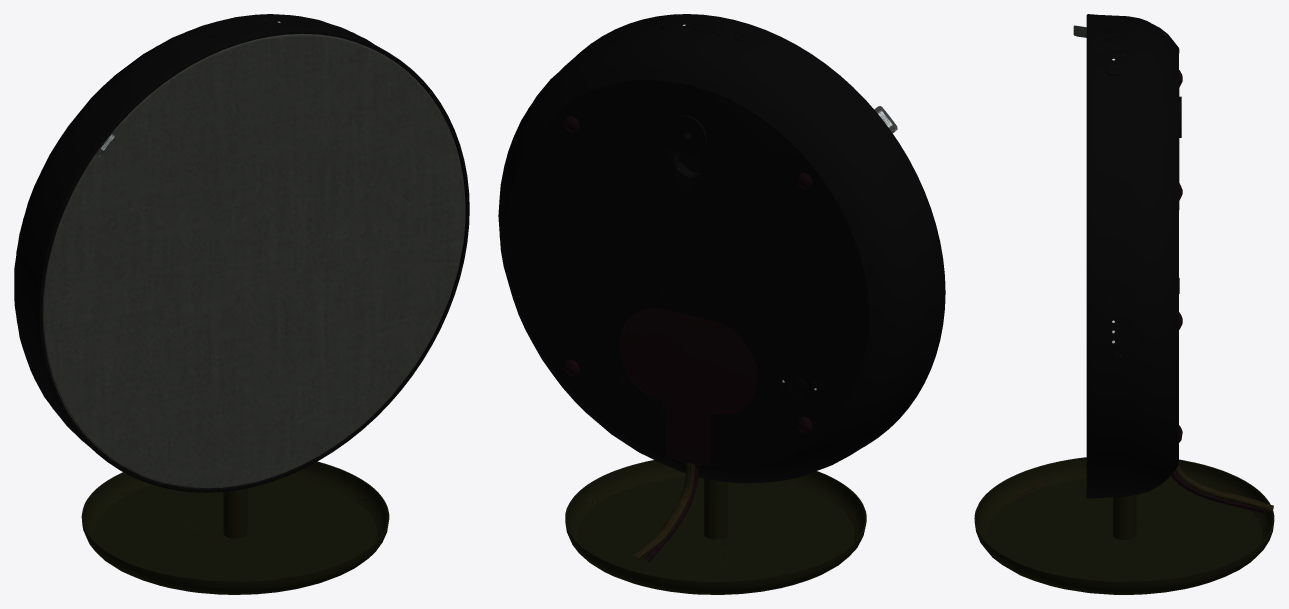
File: solskydd_gosnik_bluetooth_70598147.glb
3 renders of one model, left to right at view 1: azimuth 30°, elevation 25°; view 2: azimuth 150°, elevation 25°; view 3: azimuth 270°, elevation 25°, orthographic. The views are drawn at different scales.
Parts seen in each view (by area): view 1: solskydd_gosnik_bluetooth_70598147; view 2: solskydd_gosnik_bluetooth_70598147; view 3: solskydd_gosnik_bluetooth_70598147.
Boxes of the visible parts, left/top/right/bottom form: solskydd_gosnik_bluetooth_70598147: left=14, top=14, right=469, bottom=594; solskydd_gosnik_bluetooth_70598147: left=498, top=14, right=945, bottom=594; solskydd_gosnik_bluetooth_70598147: left=974, top=14, right=1274, bottom=594.
Bounding box in the file's own units: 0.2902 × 0.3321 × 0.1796.
Materials: 2 (2 with a texture image).
